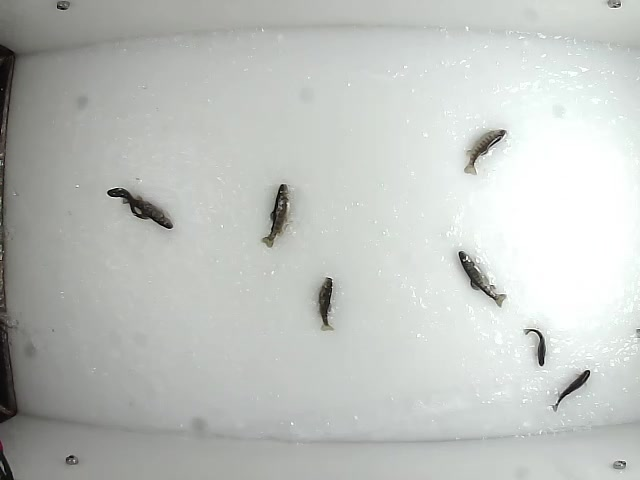fish: (455, 249, 511, 309), (259, 181, 291, 249), (463, 128, 507, 177), (547, 368, 591, 415), (126, 195, 175, 229), (106, 186, 152, 222), (316, 275, 336, 333), (522, 326, 548, 368)
